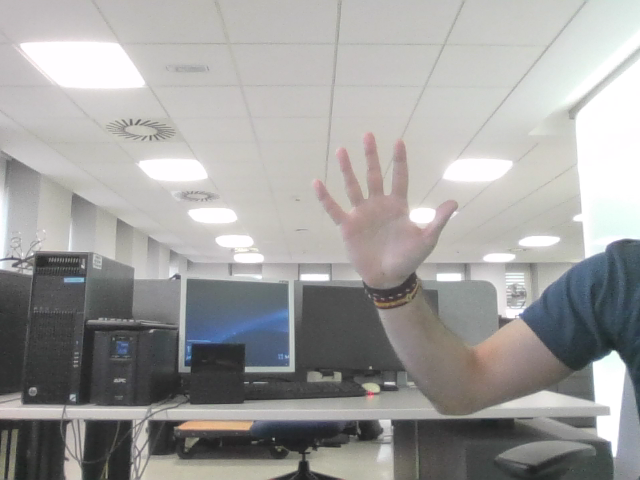Mano Abierta: (323, 144, 443, 256)
